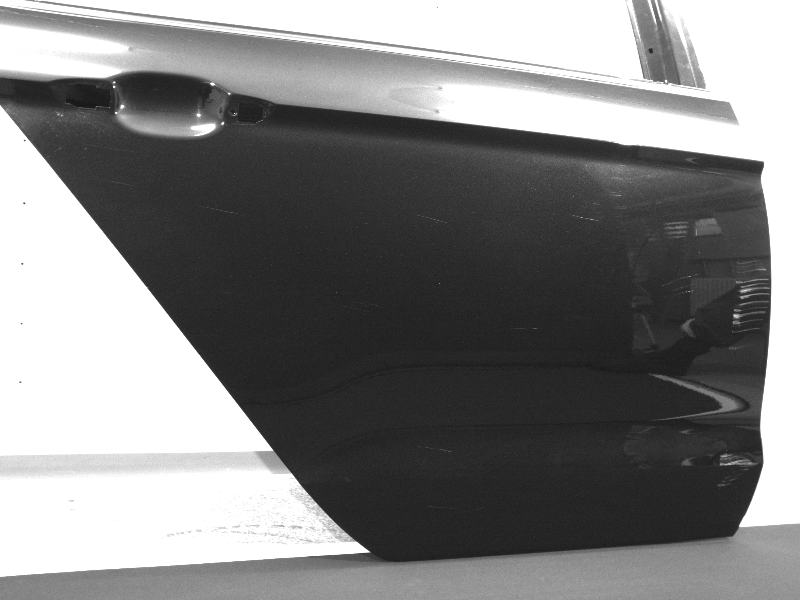scratch: (727, 259, 771, 351), (717, 449, 760, 488), (661, 272, 701, 297), (86, 144, 136, 154), (415, 214, 450, 225), (345, 302, 380, 313), (570, 212, 602, 223), (417, 444, 453, 453), (202, 206, 235, 215), (110, 178, 136, 189), (509, 326, 540, 331), (426, 505, 456, 510), (695, 230, 698, 237)
